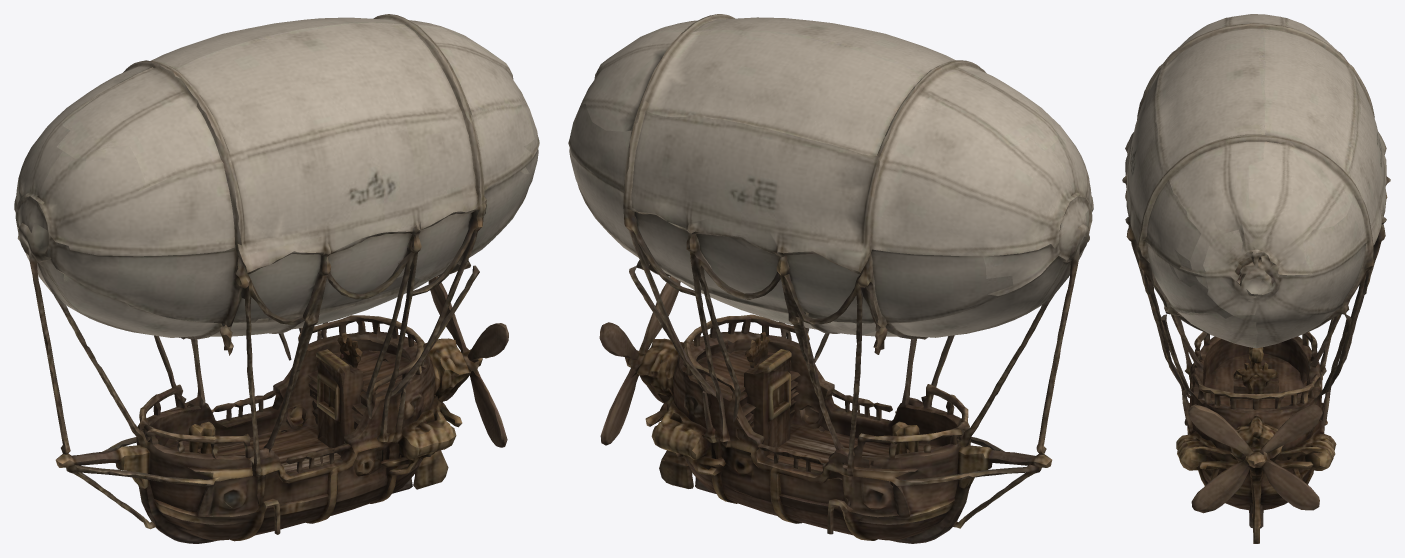
3 views of the same model, side by side, from view 1: azimuth 30°, elevation 25°; view 2: azimuth 150°, elevation 25°; view 3: azimuth 270°, elevation 25° (orthographic). The views are drawn at different scales.
Parts seen in each view (by area): view 1: world; view 2: world; view 3: world.
Part boxes in pixels (x1,y1,x2,y2): world: (14, 14, 539, 543); world: (568, 14, 1093, 543); world: (1122, 14, 1390, 543).
Size of the model in its own units: 0.45 by 0.4229 by 0.246.
1 material, 1 textured.
